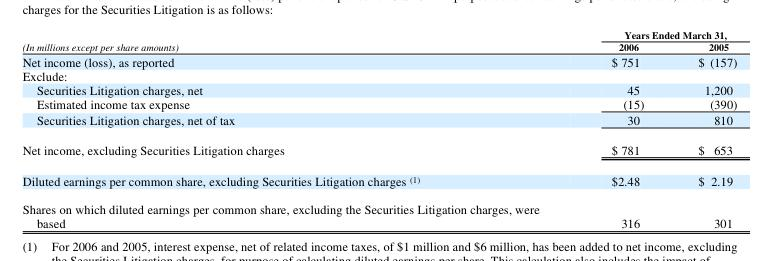table: (21, 29, 736, 229)
table column: (21, 29, 574, 229), (574, 29, 670, 229), (670, 29, 736, 229)
table column header: (21, 29, 736, 53)
table projected row header: (21, 68, 736, 82)
table row: (21, 195, 736, 229), (21, 134, 736, 165), (21, 165, 736, 195), (21, 111, 736, 134), (21, 53, 736, 68), (21, 96, 736, 111), (21, 68, 736, 82), (21, 82, 736, 96), (21, 40, 736, 53), (21, 29, 736, 40)
table spanning cell: (21, 29, 574, 53), (574, 29, 736, 40)
